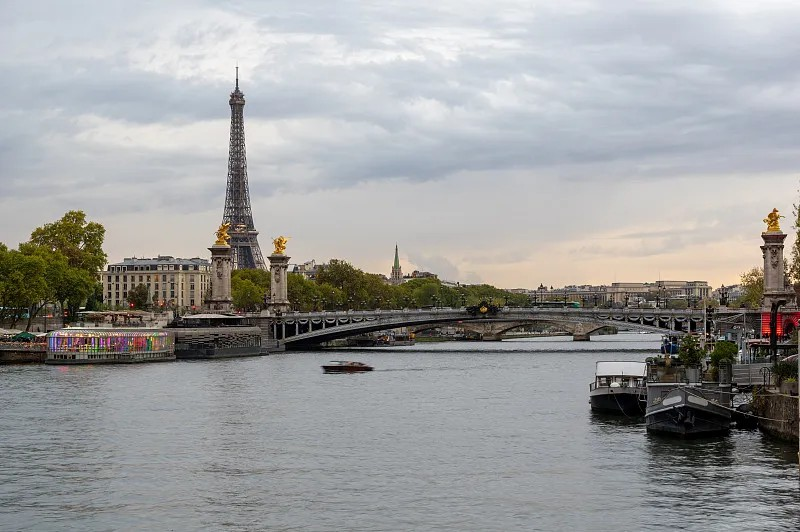Eiffel: (221, 60, 268, 272)
